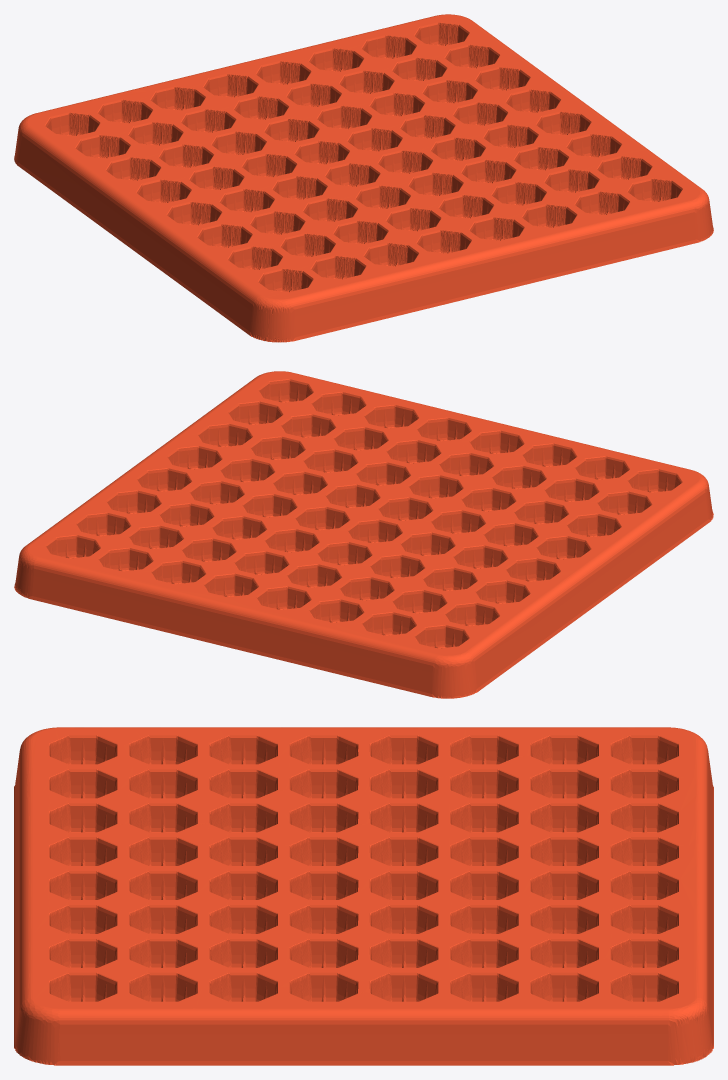
File: mold.glb
The picture shows the model from 3 angles, top to bottom: view 1: azimuth 30°, elevation 25°; view 2: azimuth 150°, elevation 25°; view 3: azimuth 270°, elevation 25°; orthographic projection. The views are drawn at different scales.
Parts seen in each view (by area): view 1: geometry_0; view 2: geometry_0; view 3: geometry_0.
Part boxes in pixels (x1,y1,x2,y2): geometry_0: (14,14,713,342); geometry_0: (14,371,713,698); geometry_0: (14,727,713,1065).
Size of the model in its own units: 0.1355 by 0.0105 by 0.1355.
